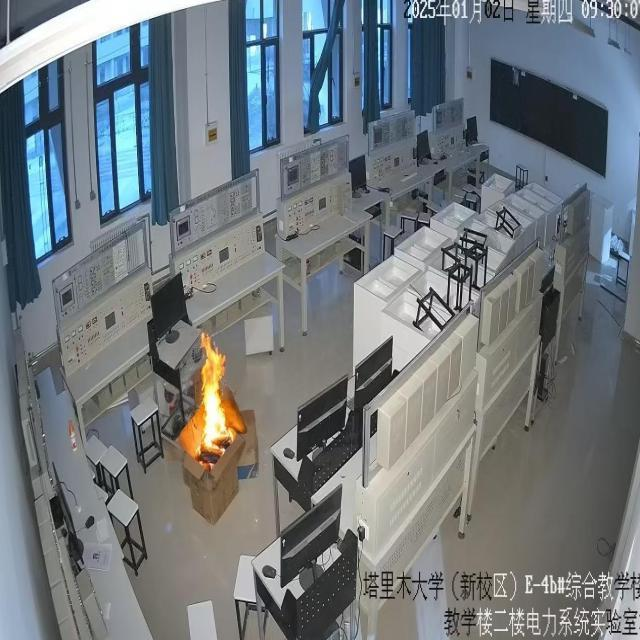smoke: (184, 331, 234, 458), (68, 418, 78, 452)
